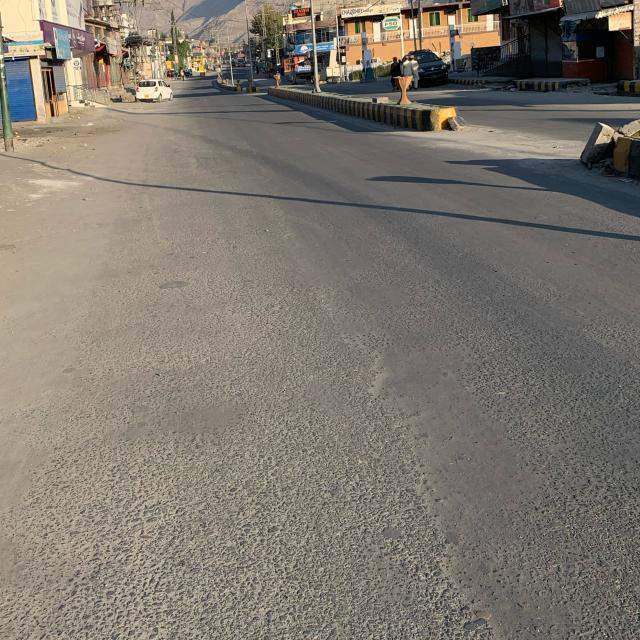straight: (172, 76, 511, 458)
